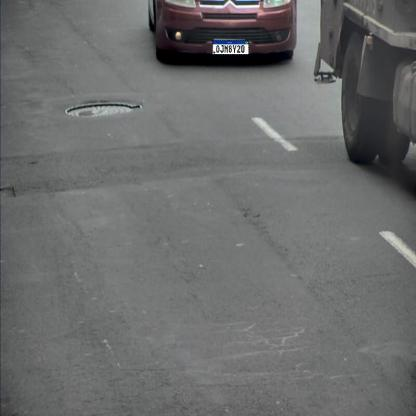PlacaM: (212, 40, 249, 55)
